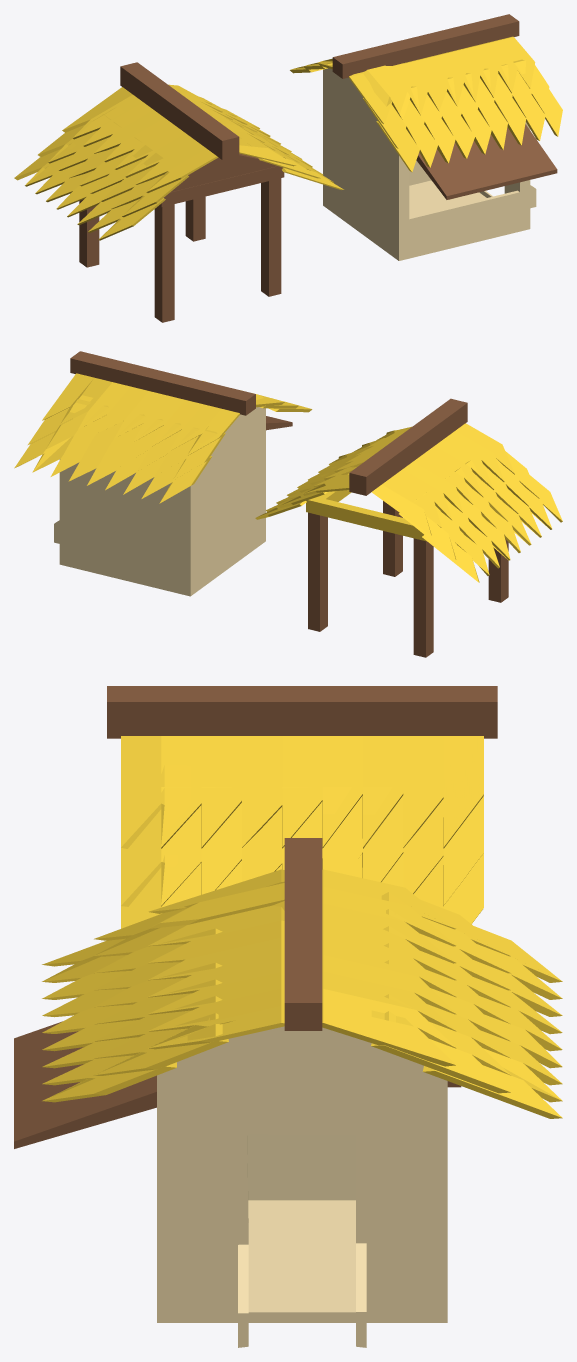
File: huts.fbx
3 renders of one model, top to bottom at view 1: azimuth 30°, elevation 25°; view 2: azimuth 150°, elevation 25°; view 3: azimuth 270°, elevation 25°, orthographic. The views are drawn at different scales.
Parts seen in each view (by area): view 1: hut2, hut1; view 2: hut2, hut1; view 3: hut2, hut1.
Part boxes in pixels (left/top/right/bottom): hut2: left=290, top=14, right=562, bottom=260; hut1: left=14, top=62, right=343, bottom=322; hut2: left=14, top=351, right=312, bottom=596; hut1: left=255, top=398, right=562, bottom=657; hut2: left=14, top=838, right=562, bottom=1347; hut1: left=107, top=686, right=497, bottom=1087.
Bounding box in the file's own units: 7150 × 2661 × 3877.
